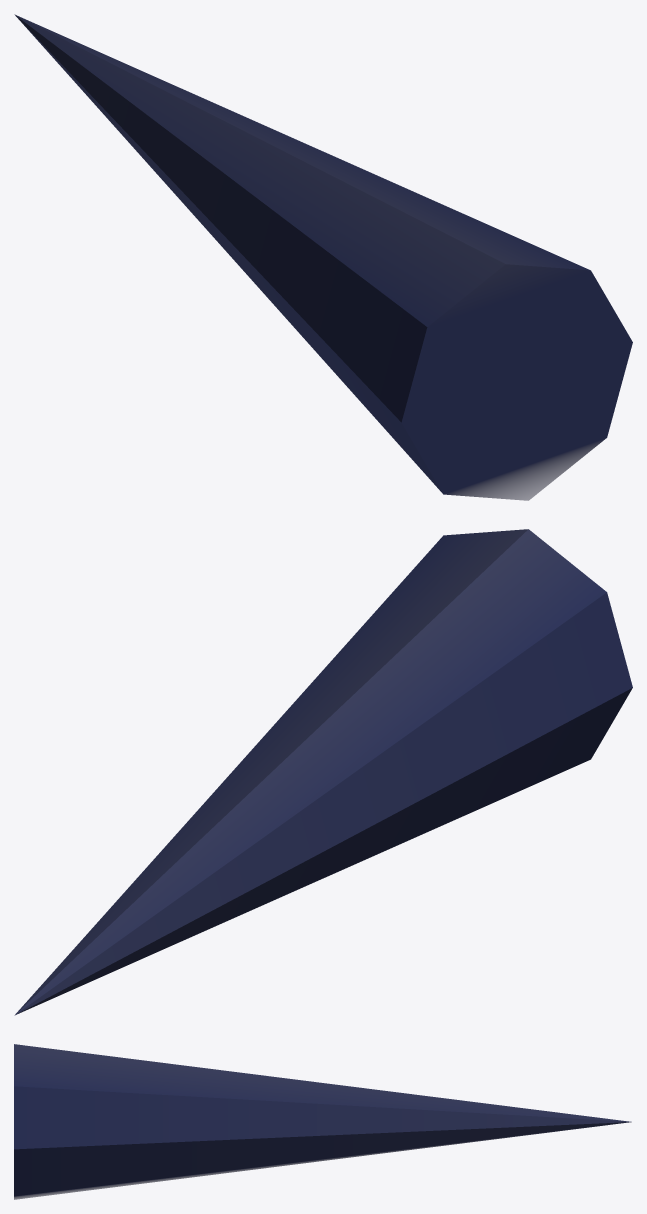
File: BoidsBird.fbx
3 renders of one model, top to bottom at view 1: azimuth 30°, elevation 25°; view 2: azimuth 150°, elevation 25°; view 3: azimuth 270°, elevation 25°, orthographic. The views are drawn at different scales.
Visible parts, largest first — view 1: Cone; view 2: Cone; view 3: Cone.
Boxes of the visible parts, <box> form: Cone: <box>14,14,632,500</box>; Cone: <box>14,529,632,1015</box>; Cone: <box>14,1044,631,1199</box>.
Size of the model in its own units: 0.2254 by 0.2254 by 0.8487.
